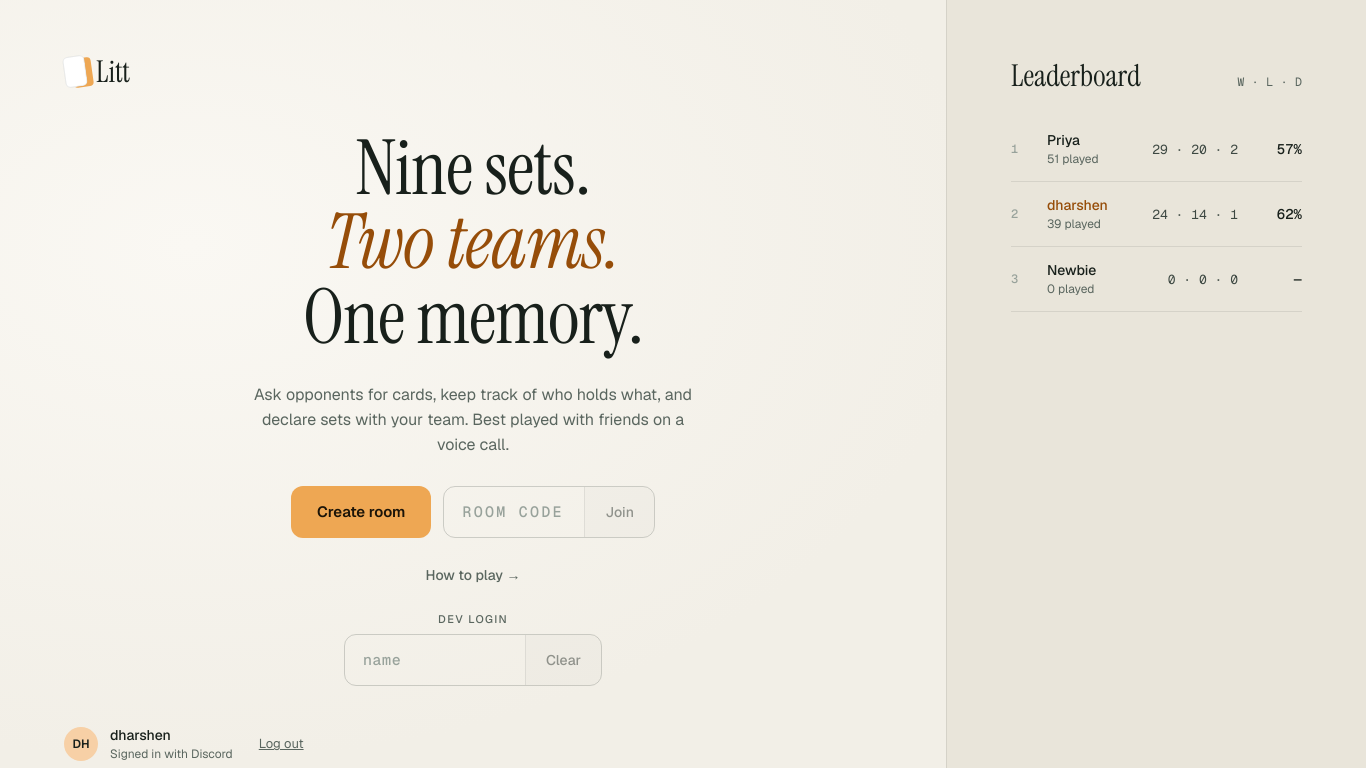
Test: Home: logged in › shows an error toast when the room can't be created
Click the button "Create room".
click(361, 512)  # box [291, 486, 432, 538]
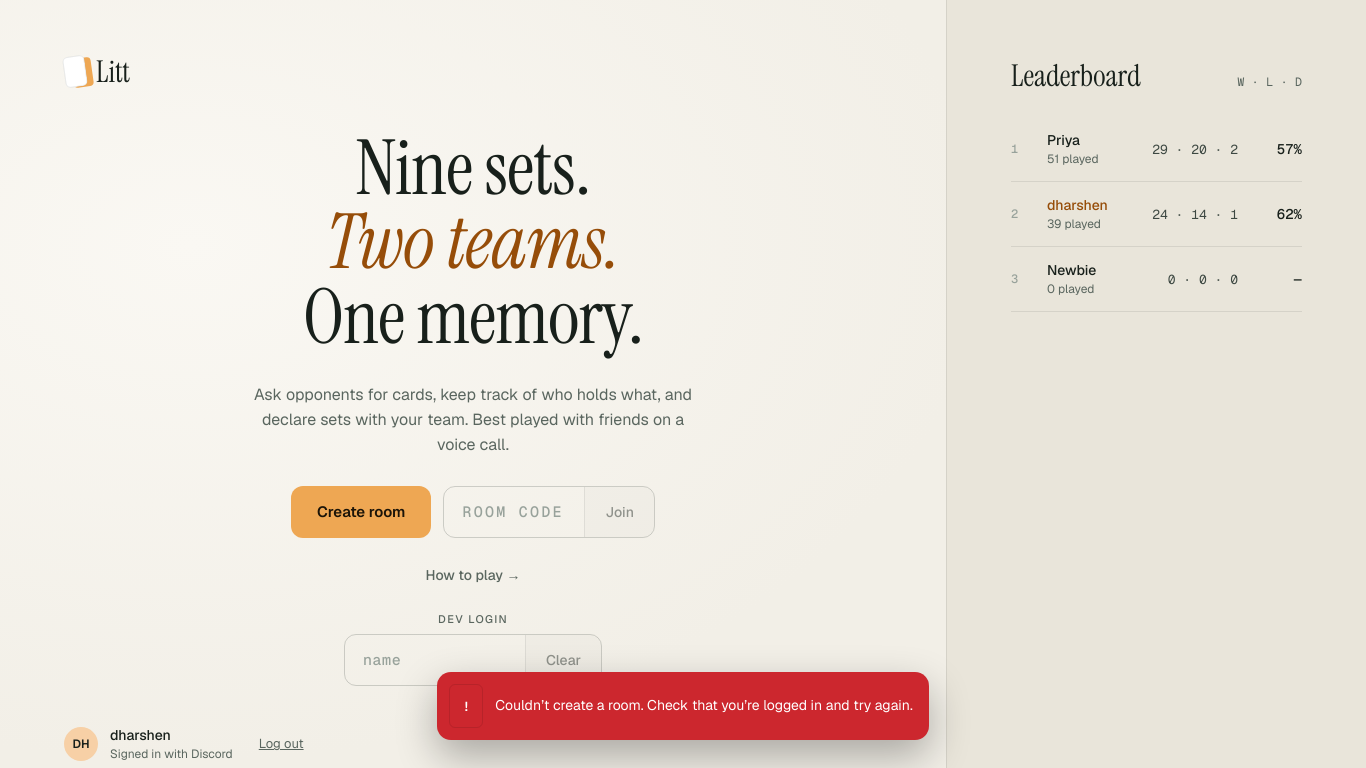
Result: the text "Couldn’t create a room" is shown at [495, 696, 913, 714]
